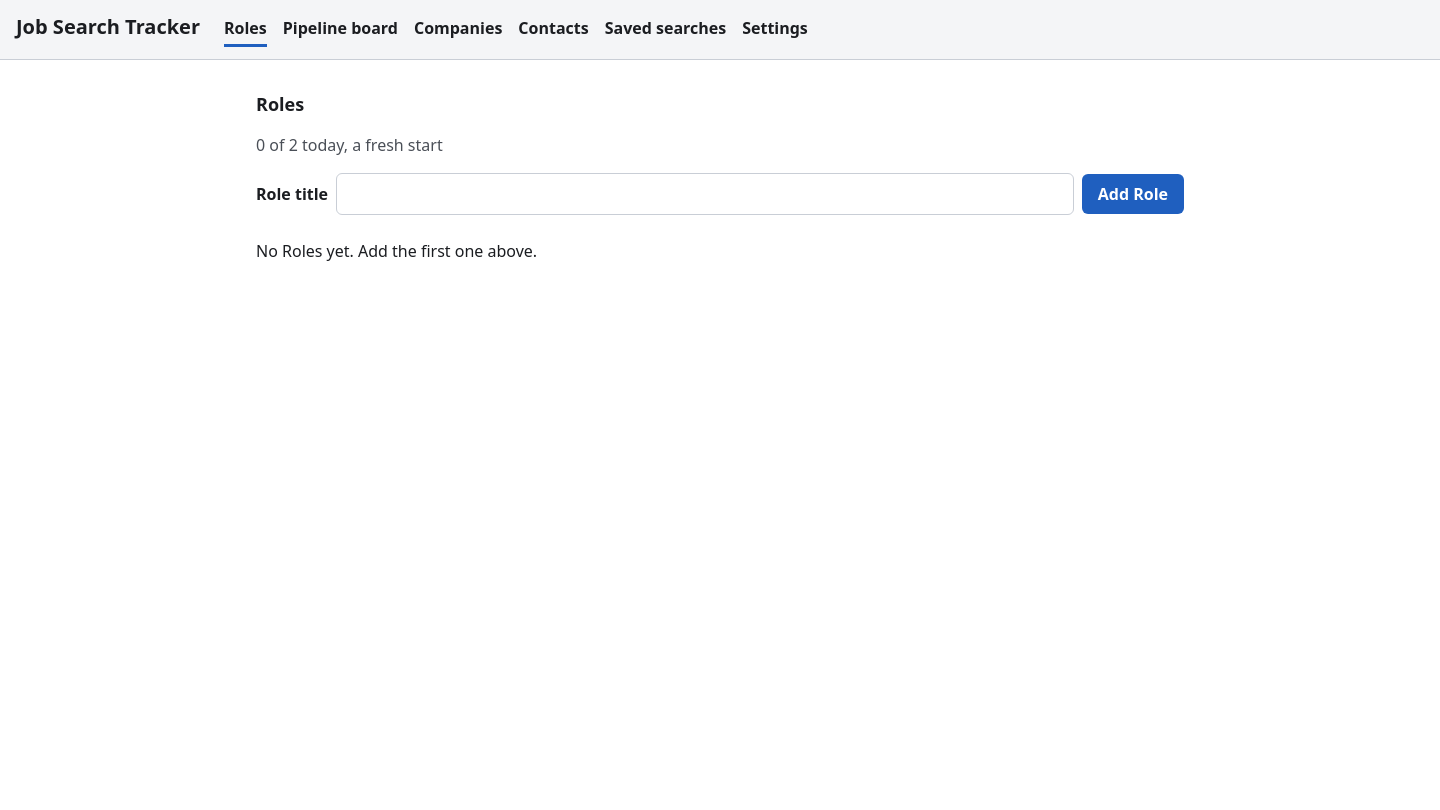
Test: Contact pages › Given no Contacts, when I add one from the Contacts page and open it, then I see its empty fields and that it is linked to no Roles
Click the link "Contacts": [553, 30] box [518,12,589,47]
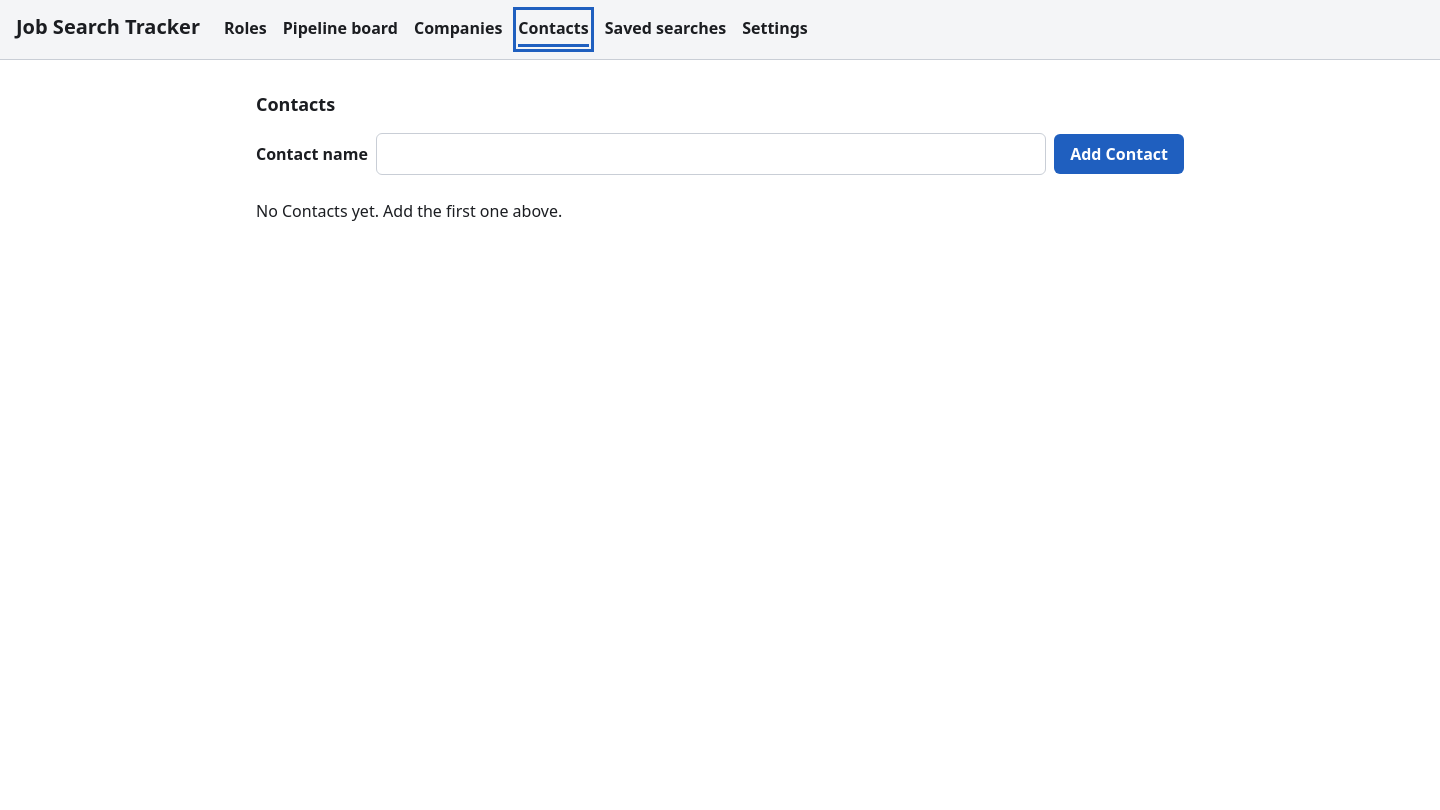
Expected: the text "No Contacts yet. Add the first one above." is shown, [256,200,562,222]
In the field labelled "Contact name": [711, 154] box [376,133,1046,175], type "Priya Shah"
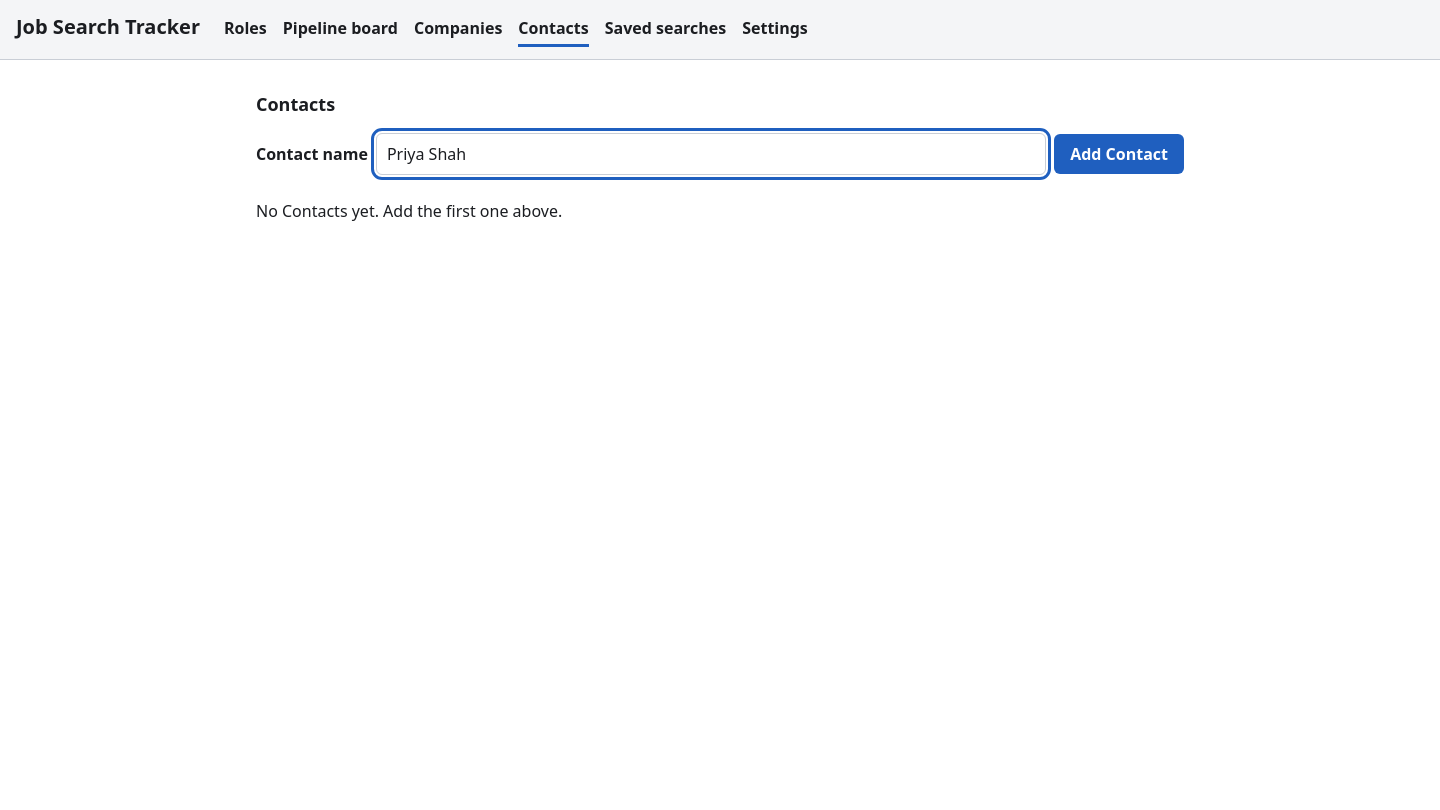
Click the button "Add Contact": [1119, 154] box [1054,134,1184,174]
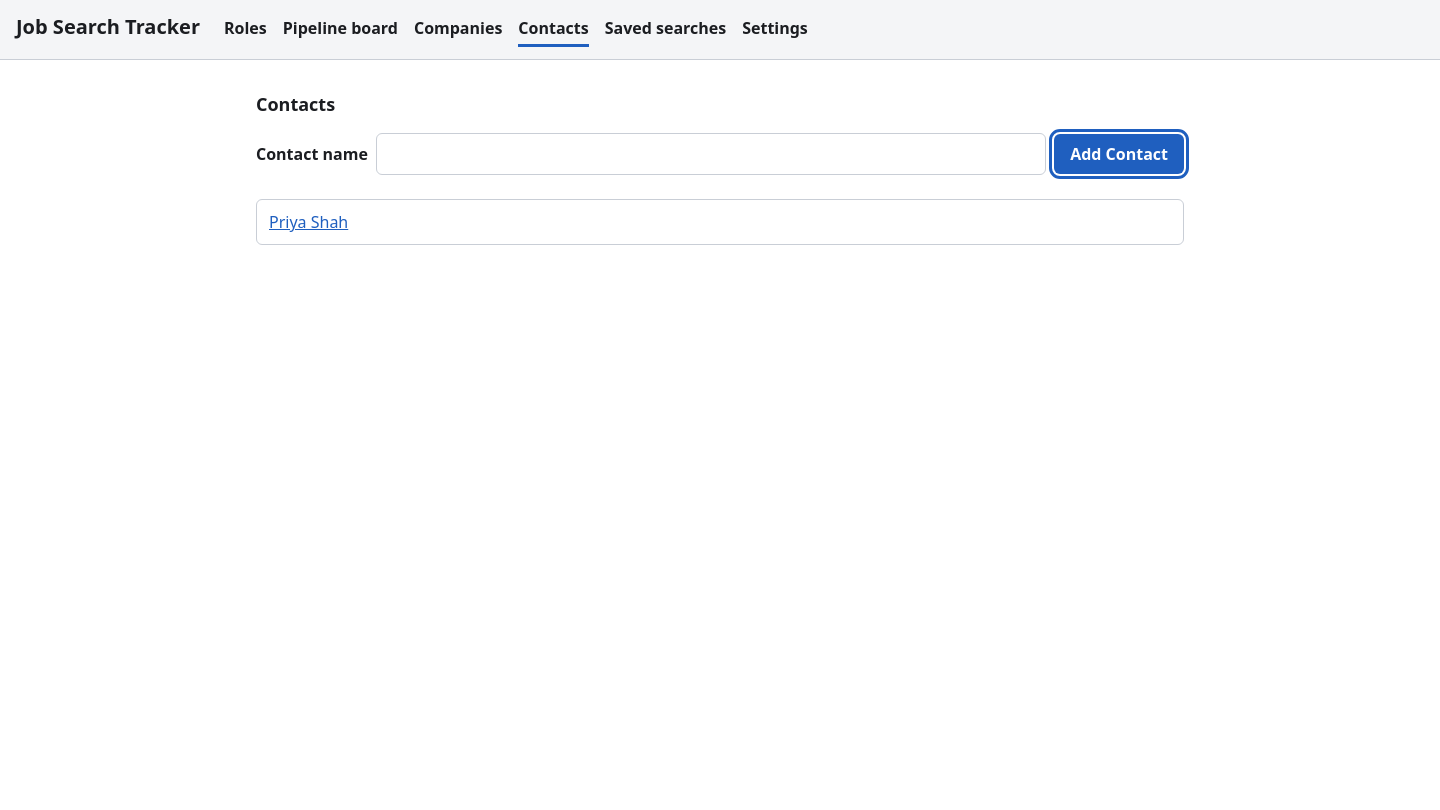
Click the link "Priya Shah": [309, 222] box [269,210,348,234]
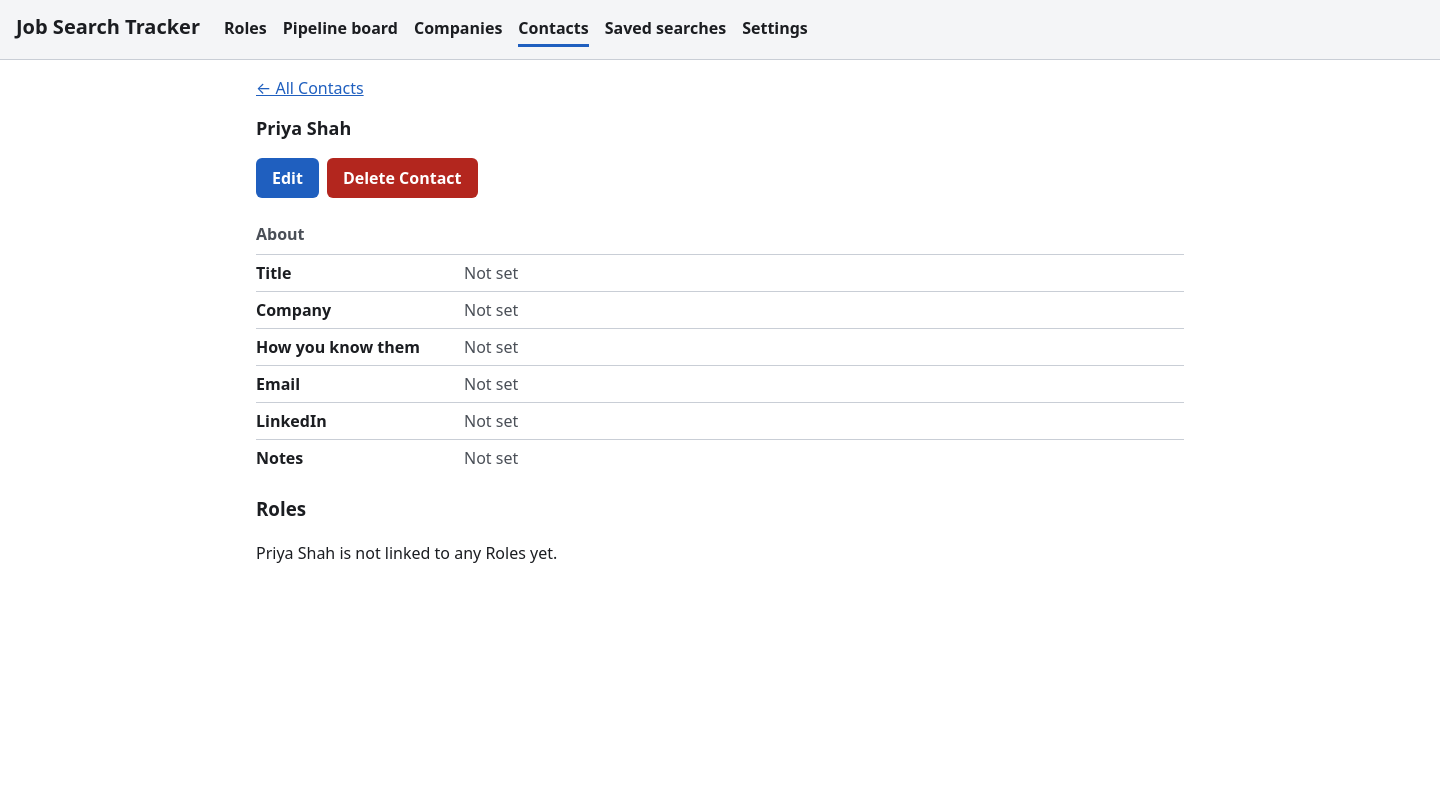
Expected: the heading "Priya Shah" is shown, [256,116,351,140]
Expected: the element showing "Not set" in the row of "Notes" is shown, [464,447,518,469]
Expected: the text "Priya Shah is not linked to any Roles yet." is shown, [256,542,557,564]
